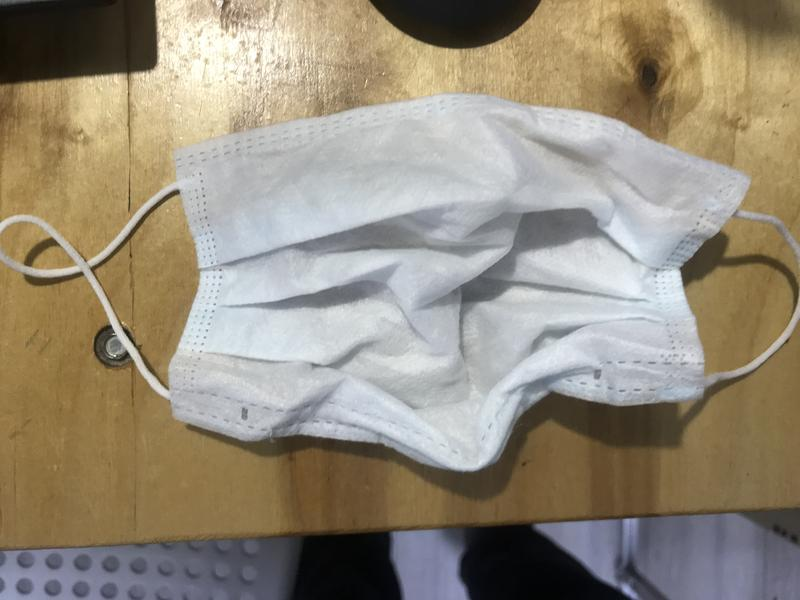medical_mask: (2, 93, 800, 472)
